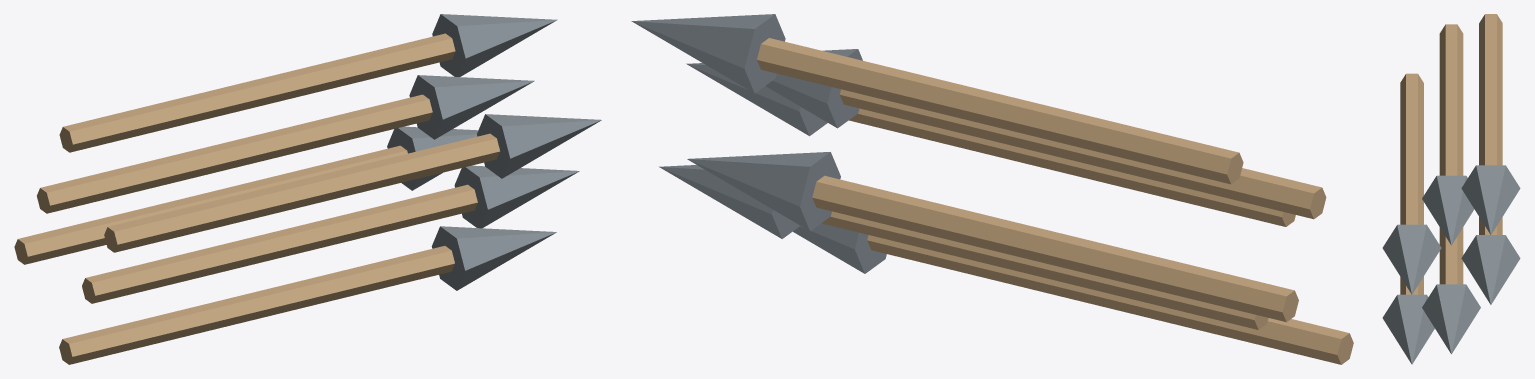
The model's file is item_110_iron_spear_l.glb.
3 views of the same model, side by side, from view 1: azimuth 30°, elevation 25°; view 2: azimuth 150°, elevation 25°; view 3: azimuth 270°, elevation 25° (orthographic). The views are drawn at different scales.
Parts seen in each view (by area): view 1: item_110_iron_spear_l; view 2: item_110_iron_spear_l; view 3: item_110_iron_spear_l.
Boxes of the visible parts, x1=… form: item_110_iron_spear_l: x1=14, y1=14, x2=601, y2=364; item_110_iron_spear_l: x1=631, y1=14, x2=1353, y2=364; item_110_iron_spear_l: x1=1382, y1=14, x2=1520, y2=364.
Size of the model in its own units: 0.8332 by 0.3279 by 0.21.
